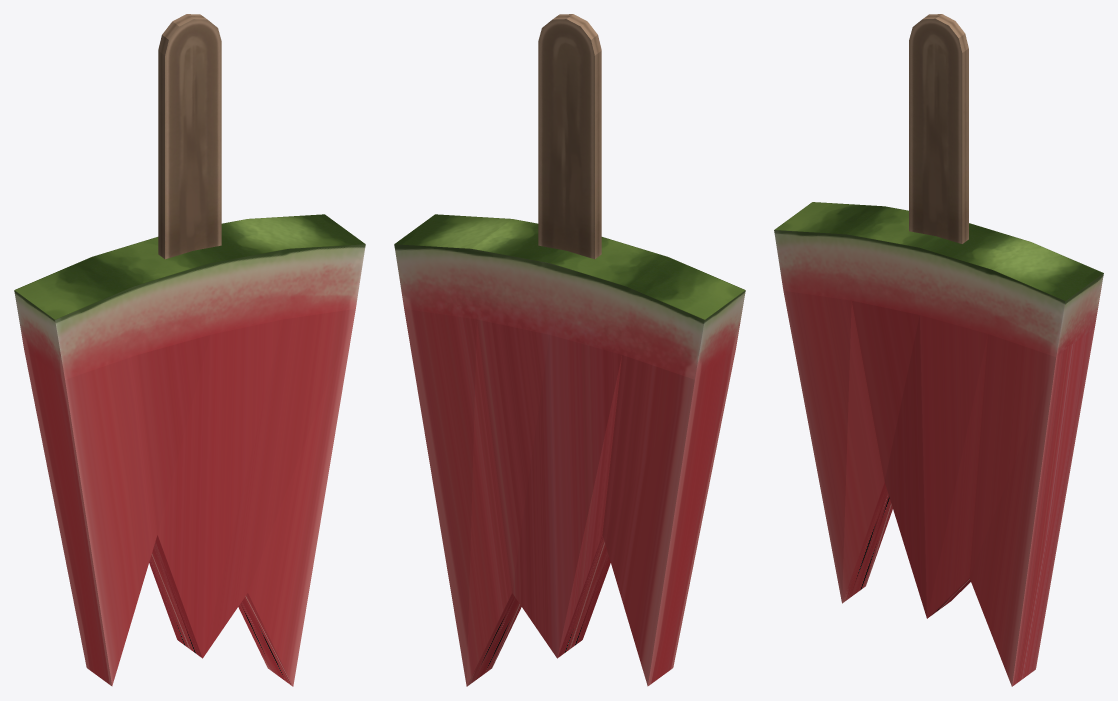
3 renders of one model, left to right at view 1: azimuth 30°, elevation 25°; view 2: azimuth 150°, elevation 25°; view 3: azimuth 330°, elevation 25°, orthographic. The views are drawn at different scales.
Visible parts, largest first — view 1: watermelon2; view 2: watermelon2; view 3: watermelon2.
Part boxes in pixels (x1,y1,x2,y2): watermelon2: (14,14,365,686); watermelon2: (394,14,745,686); watermelon2: (774,14,1103,686).
Bounding box in the file's own units: 65.75 × 138 × 15.
